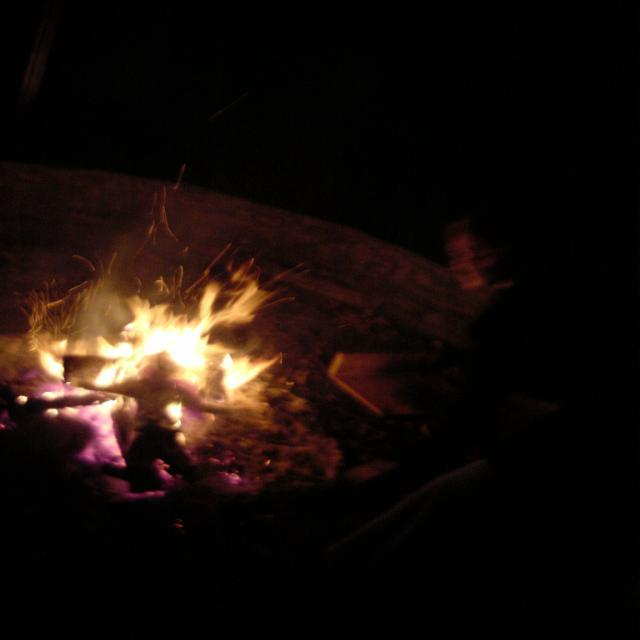Fire: (18, 264, 282, 457)
